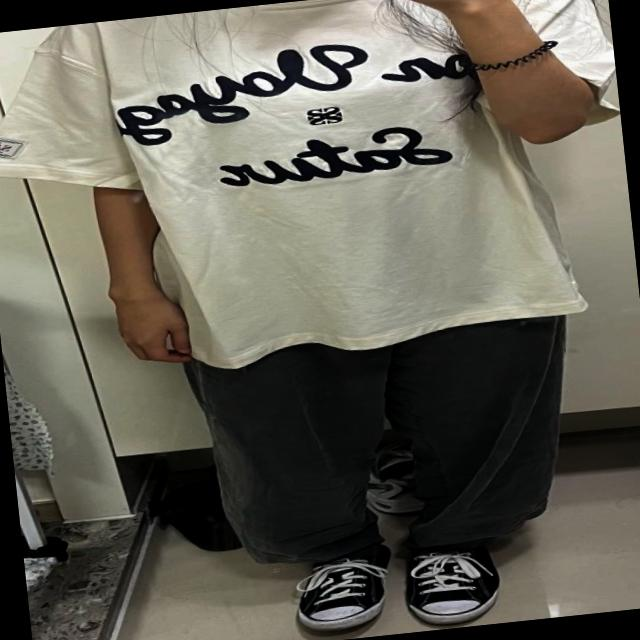denimpants: (182, 306, 588, 574)
shortsleeve: (12, 0, 640, 381)
